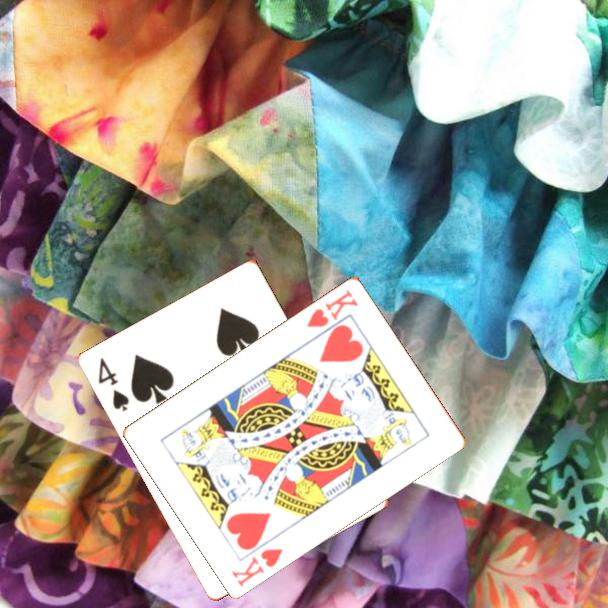h13: (303, 285, 361, 330), (228, 544, 286, 589)
s04: (95, 354, 133, 415)
